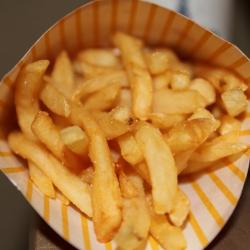fries: (23, 45, 225, 232)
